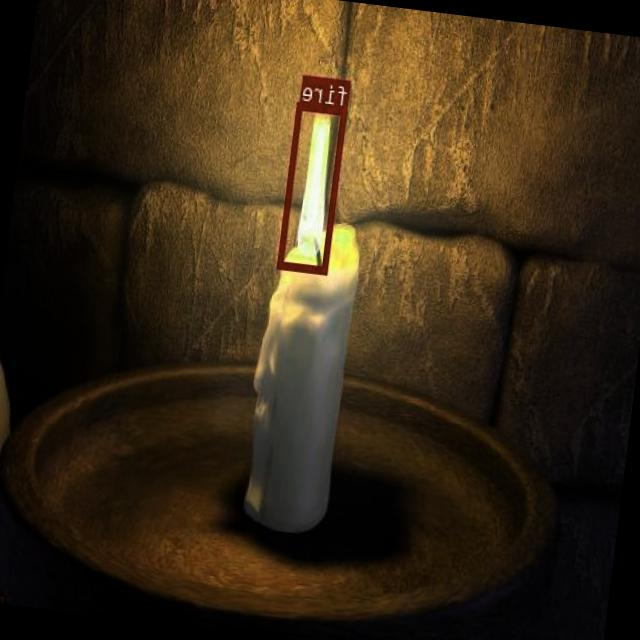fire: (278, 101, 348, 272)
